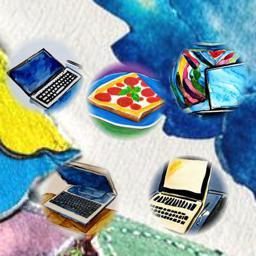something that can be eaten: (90, 70, 163, 125)
